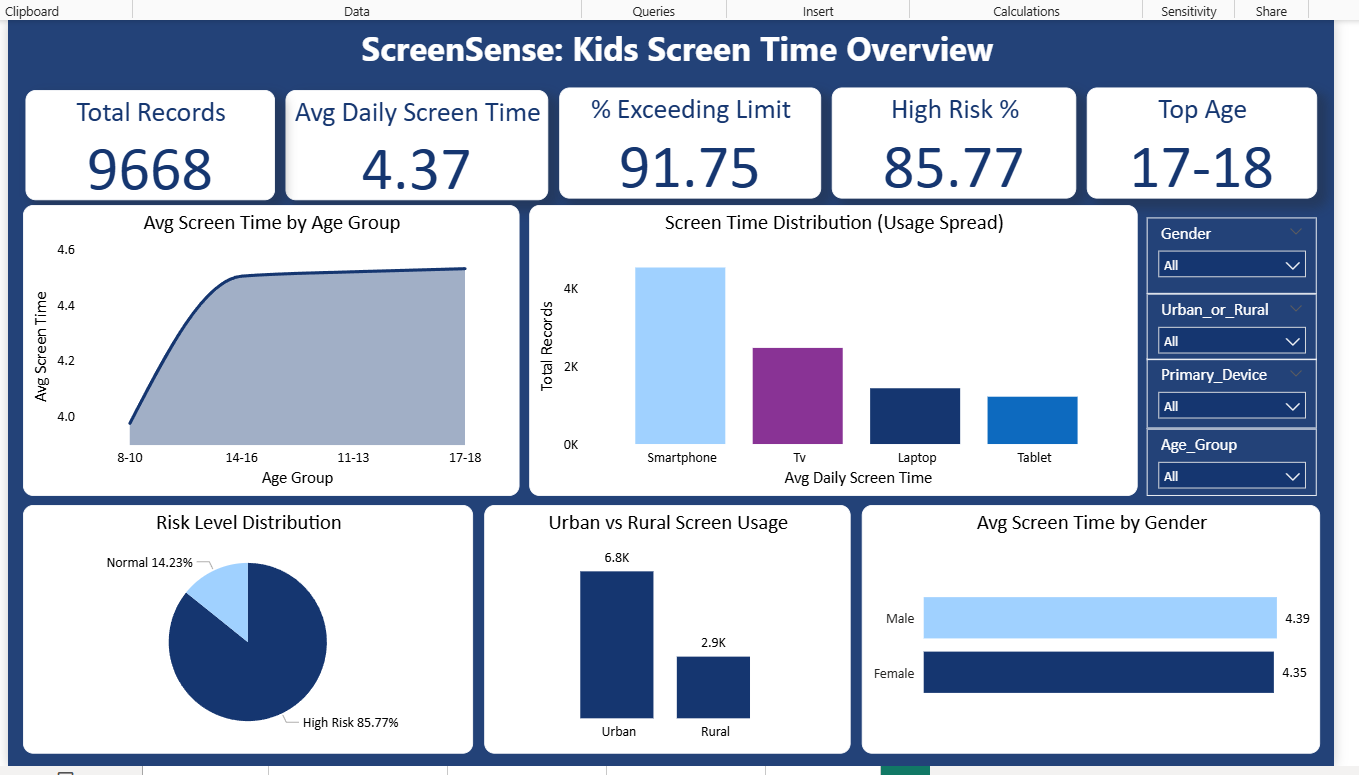

What the dashboard file says about the page in this screenshot:
{"tool":"powerbi","page":{"name":"OVERVIEW","canvas":[1280,720],"ordinal":0},"visuals":[{"type":"card","title":"Avg Daily Screen Time","fields":{"Values":["Sheet1.Avg_Screen_Time"]},"box":[268.2,67.8,253.5,106.5],"z":0},{"type":"card","title":"Total Records","fields":{"Values":["Sheet1.Total_Records"]},"box":[16.9,67.8,240.9,106.5],"z":1000},{"type":"card","title":"% Exceeding Limit","fields":{"Values":["Sheet1.Percent_Exceeded"]},"box":[532,65.1,252.7,107.2],"z":2000},{"type":"card","title":"High Risk %","fields":{"Values":["Sheet1.High_Risk_%"]},"box":[795.1,65.1,236.1,107.2],"z":3000},{"type":"textbox","box":[16.4,0,1251.2,65.6],"z":4000},{"type":"card","title":"Top Age ","fields":{"Values":["Sheet1.Top_Age"]},"box":[1041.6,65.1,222.1,107.2],"z":5000},{"type":"slicer","fields":{"Values":["Sheet1.Gender"]},"box":[1099.1,190.6,164.1,73.6],"z":6000},{"type":"slicer","fields":{"Values":["Sheet1.Urban_or_Rural"]},"box":[1099.1,263.8,164.1,63.9],"z":7000},{"type":"slicer","fields":{"Values":["Sheet1.Age_Group"]},"box":[1099.1,394.5,164.1,65.1],"z":8000},{"type":"slicer","fields":{"Values":["Sheet1.Primary_Device"]},"box":[1099.1,327.3,164.1,67.6],"z":9000},{"type":"areaChart","title":"Avg Screen Time by Age Group","fields":{"Category":["Sheet1.Age_Group"],"Y":["Sheet1.Avg_Screen_Time"]},"box":[14.5,178.6,479,281.1],"z":10000},{"type":"clusteredBarChart","title":"Avg Screen Time by Gender","fields":{"Category":["Sheet1.Gender"],"Y":["Sheet1.Avg_Screen_Time"]},"box":[824,468.1,442.8,240.1],"z":11000},{"type":"columnChart","title":"Urban vs Rural Screen Usage","fields":{"Category":["Sheet1.Urban_or_Rural"],"Y":["CountNonNull(Sheet1.Avg_Daily_Screen_Time_hr)"]},"box":[459.7,468.1,353.5,240.1],"z":12000},{"type":"pieChart","title":"Risk Level Distribution","fields":{"Category":["Sheet1.Risk_Level"],"Y":["Sheet1.Total_Records"]},"box":[14.5,468.1,434.3,240.1],"z":13000},{"type":"columnChart","title":"Screen Time Distribution (Usage Spread)","fields":{"Category":["Sheet1.Primary_Device"],"Y":["CountNonNull(Sheet1.Primary_Device)"]},"box":[503.1,178.6,587.5,281.1],"z":14000}]}

Visuals, with their boxes in screenshot pixels (x1, y1, x2, y2):
"Avg Daily Screen Time" card: x1=284 y1=85 x2=550 y2=197
"Total Records" card: x1=21 y1=85 x2=273 y2=197
"% Exceeding Limit" card: x1=561 y1=82 x2=825 y2=195
"High Risk %" card: x1=836 y1=82 x2=1083 y2=195
textbox: x1=21 y1=14 x2=1331 y2=83
"Top Age " card: x1=1094 y1=82 x2=1327 y2=195
slicer - Sheet1.Gender: x1=1154 y1=214 x2=1326 y2=291
slicer - Sheet1.Urban_or_Rural: x1=1154 y1=290 x2=1326 y2=357
slicer - Sheet1.Age_Group: x1=1154 y1=427 x2=1326 y2=495
slicer - Sheet1.Primary_Device: x1=1154 y1=357 x2=1326 y2=428
"Avg Screen Time by Age Group" areaChart: x1=19 y1=201 x2=520 y2=495
"Avg Screen Time by Gender" clusteredBarChart: x1=866 y1=504 x2=1330 y2=756
"Urban vs Rural Screen Usage" columnChart: x1=485 y1=504 x2=855 y2=756
"Risk Level Distribution" pieChart: x1=19 y1=504 x2=473 y2=756
"Screen Time Distribution (Usage Spread)" columnChart: x1=530 y1=201 x2=1145 y2=495
